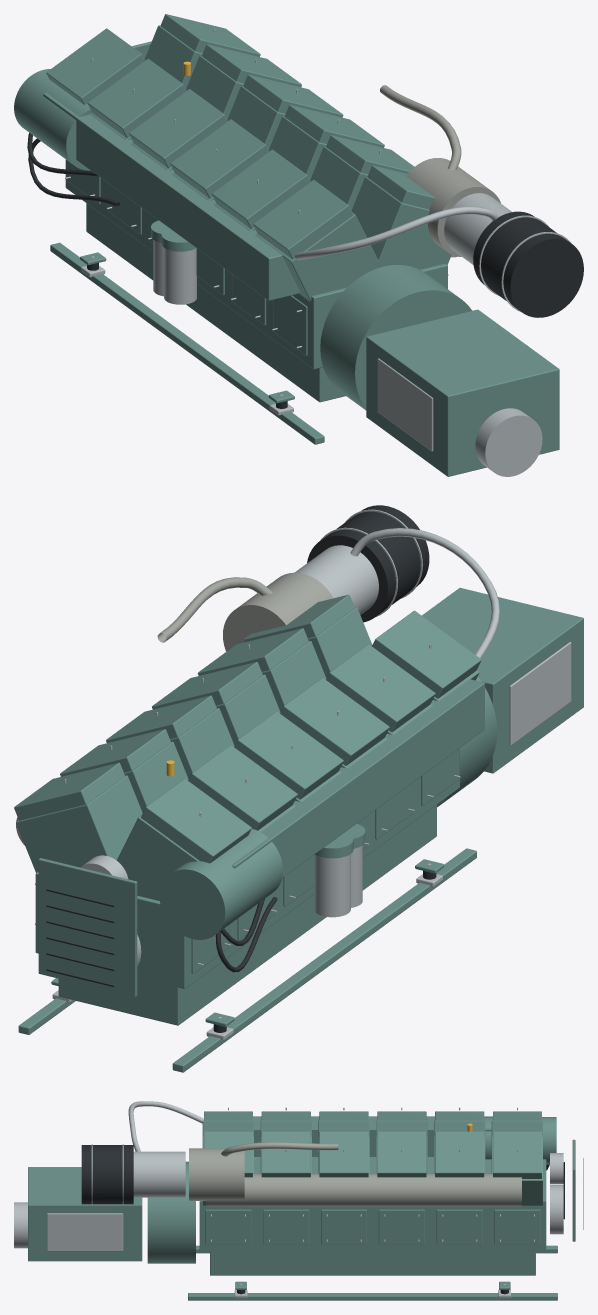
File: marine_v12_feeder_high_output.glb
3 renders of one model, top to bottom at view 1: azimuth 30°, elevation 25°; view 2: azimuth 150°, elevation 25°; view 3: azimuth 270°, elevation 25°, orthographic. The views are drawn at different scales.
Visible parts, largest first — view 1: marine_v12_feeder_high_output Engine_Paint, marine_v12_feeder_high_output Fixed_MachinedSteel, marine_v12_feeder_high_output Fixed_Rubber, marine_v12_feeder_high_output Fixed_HeatShield; view 2: marine_v12_feeder_high_output Engine_Paint, marine_v12_feeder_high_output Fixed_MachinedSteel, marine_v12_feeder_high_output Fixed_Rubber, marine_v12_feeder_high_output Fixed_HeatShield; view 3: marine_v12_feeder_high_output Engine_Paint, marine_v12_feeder_high_output Fixed_HeatShield, marine_v12_feeder_high_output Fixed_MachinedSteel, marine_v12_feeder_high_output Fixed_Rubber.
Boxes of the visible parts, left/top/right/bottom form: marine_v12_feeder_high_output Engine_Paint: left=14, top=14, right=559, bottom=476; marine_v12_feeder_high_output Fixed_MachinedSteel: left=65, top=28, right=571, bottom=476; marine_v12_feeder_high_output Fixed_Rubber: left=27, top=133, right=583, bottom=408; marine_v12_feeder_high_output Fixed_HeatShield: left=380, top=85, right=500, bottom=257; marine_v12_feeder_high_output Engine_Paint: left=14, top=587, right=583, bottom=1072; marine_v12_feeder_high_output Fixed_MachinedSteel: left=35, top=509, right=571, bottom=1040; marine_v12_feeder_high_output Fixed_Rubber: left=46, top=505, right=436, bottom=1032; marine_v12_feeder_high_output Fixed_HeatShield: left=16, top=572, right=332, bottom=845; marine_v12_feeder_high_output Engine_Paint: left=28, top=1111, right=575, bottom=1300; marine_v12_feeder_high_output Fixed_HeatShield: left=189, top=1142, right=521, bottom=1206; marine_v12_feeder_high_output Fixed_MachinedSteel: left=14, top=1101, right=563, bottom=1297; marine_v12_feeder_high_output Fixed_Rubber: left=81, top=1145, right=583, bottom=1294.
Size of the model in its own units: 3.22 by 3.24 by 9.86.
